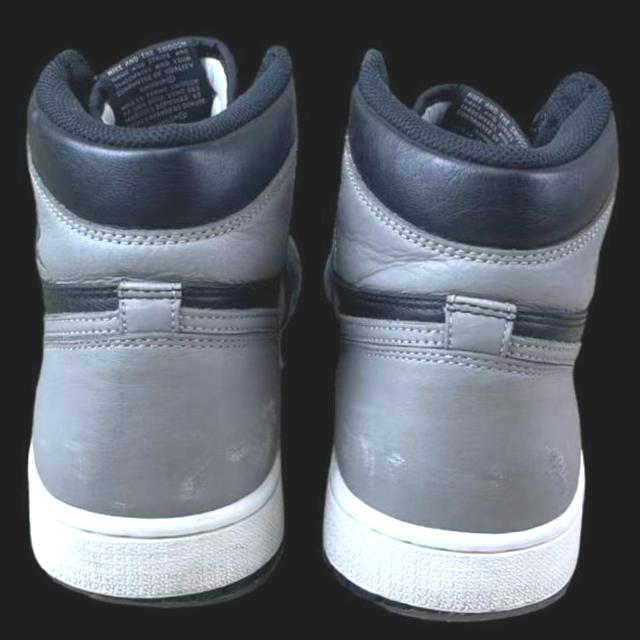nike_original_jordan: (318, 46, 632, 624), (16, 16, 317, 609)
